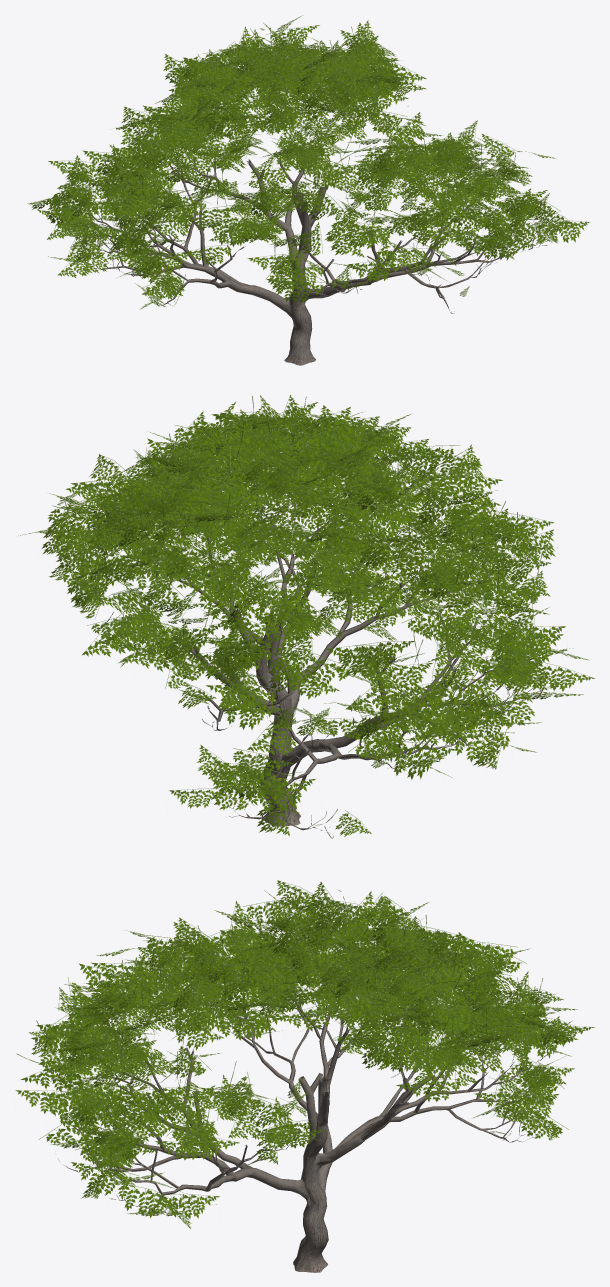
The model's file is chinaberry_a_far.glb.
3 views of the same model, one above another, from view 1: azimuth 30°, elevation 25°; view 2: azimuth 150°, elevation 25°; view 3: azimuth 270°, elevation 25° (orthographic). The views are drawn at different scales.
Parts seen in each view (by area): view 1: Melia_azedarach_HD_Melia bark 01_0; view 2: Melia_azedarach_HD_Melia bark 01_0; view 3: Melia_azedarach_HD_Melia bark 01_0.
Boxes of the visible parts, left/top/right/bottom form: Melia_azedarach_HD_Melia bark 01_0: left=28, top=15, right=589, bottom=365; Melia_azedarach_HD_Melia bark 01_0: left=20, top=395, right=594, bottom=838; Melia_azedarach_HD_Melia bark 01_0: left=15, top=880, right=594, bottom=1272.
Bounding box in the file's own units: 10.71 × 7.32 × 10.37.
2 materials, 2 textured.
